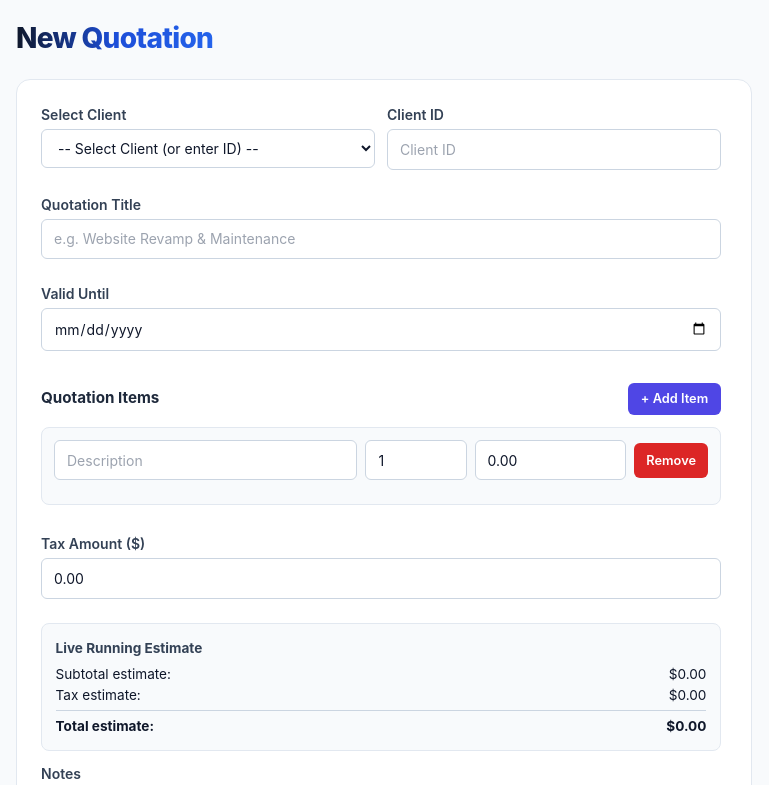
Scenario: QuotationFormPage Component (QUOT-013) › Test 3: Server error mapping works (mock a 422 response and assert field errors)
The image size is (769, 785).
Type "10" into the field with placeholder "Client ID" at {"x": 554, "y": 149}, box x1=387 y1=129 x2=721 y2=170
Type "Dup Title" into the field with placeholder "e.g. Website Revamp & Maintenance" at {"x": 381, "y": 239}, box x1=41 y1=219 x2=721 y2=259
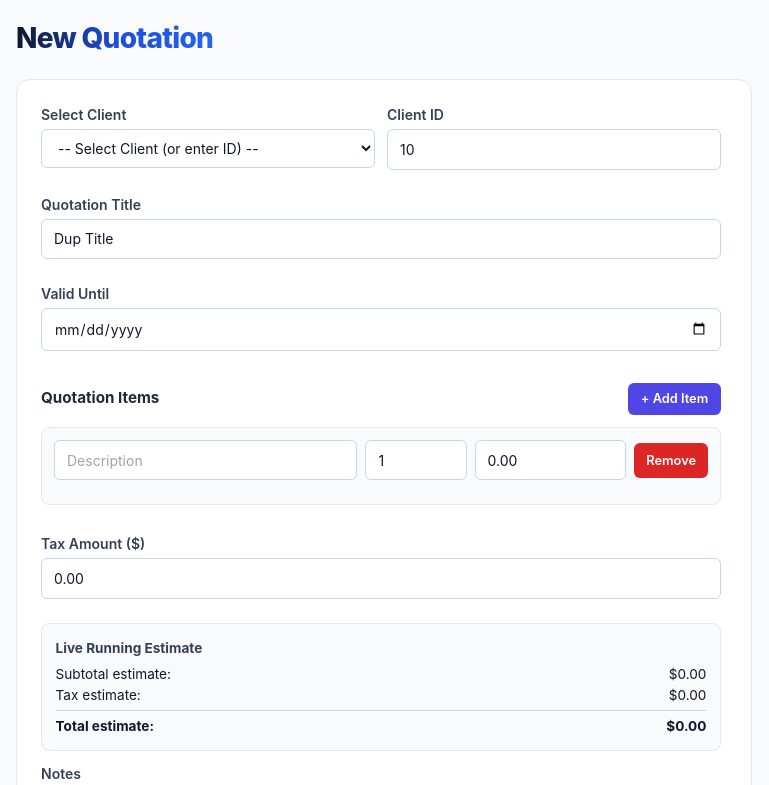
Type "2026-12-01" into the date field labelled "Valid Until" at {"x": 381, "y": 330}, box x1=41 y1=308 x2=721 y2=351
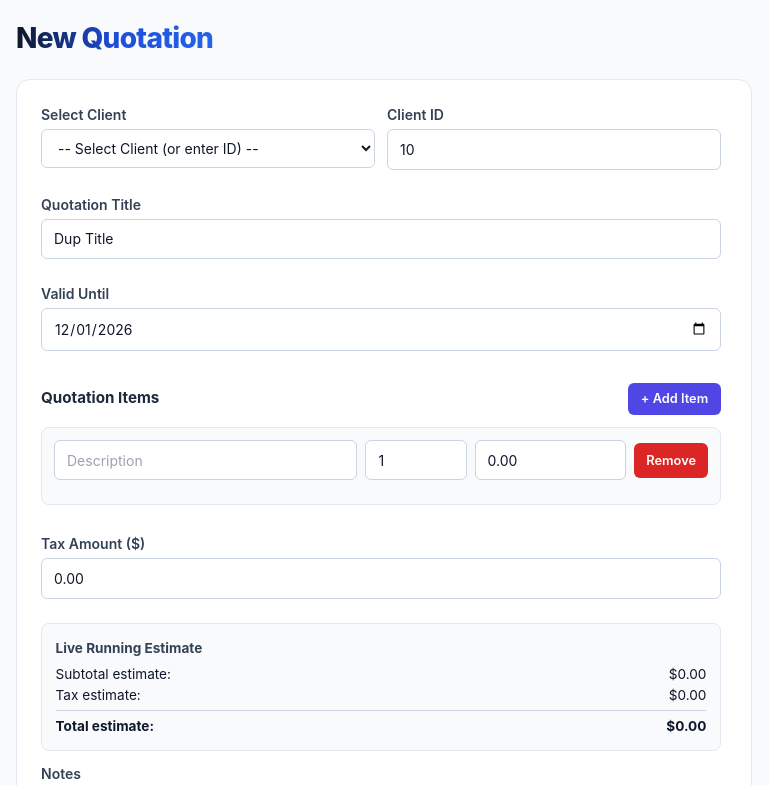
Type "Consulting" into the field with placeholder "Description" at {"x": 206, "y": 460}, box x1=54 y1=440 x2=358 y2=480
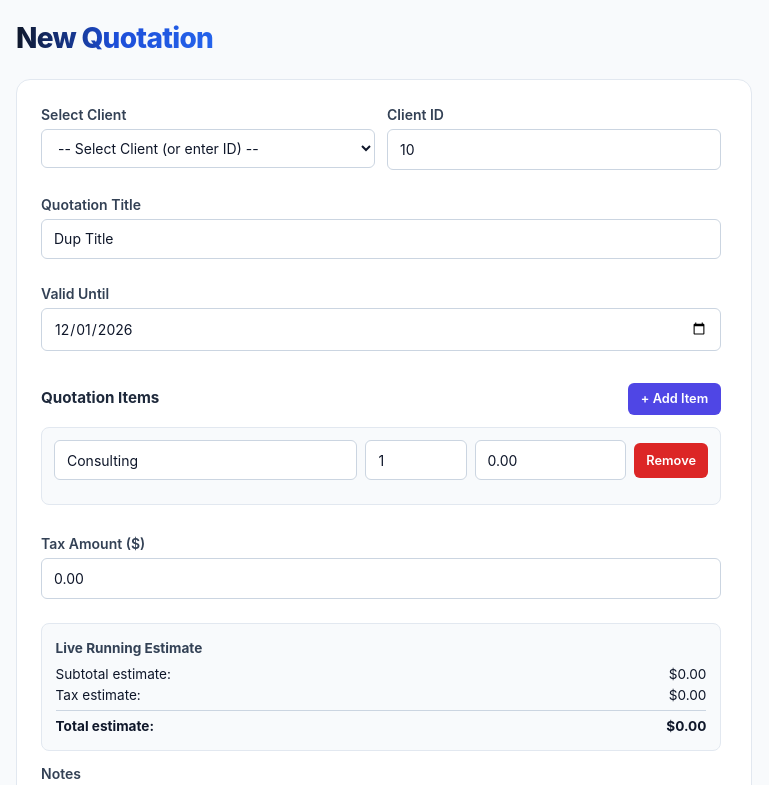
Replace the text in the 1st number field with placeholder "Qty" with "2" at {"x": 416, "y": 460}, box x1=366 y1=440 x2=467 y2=480
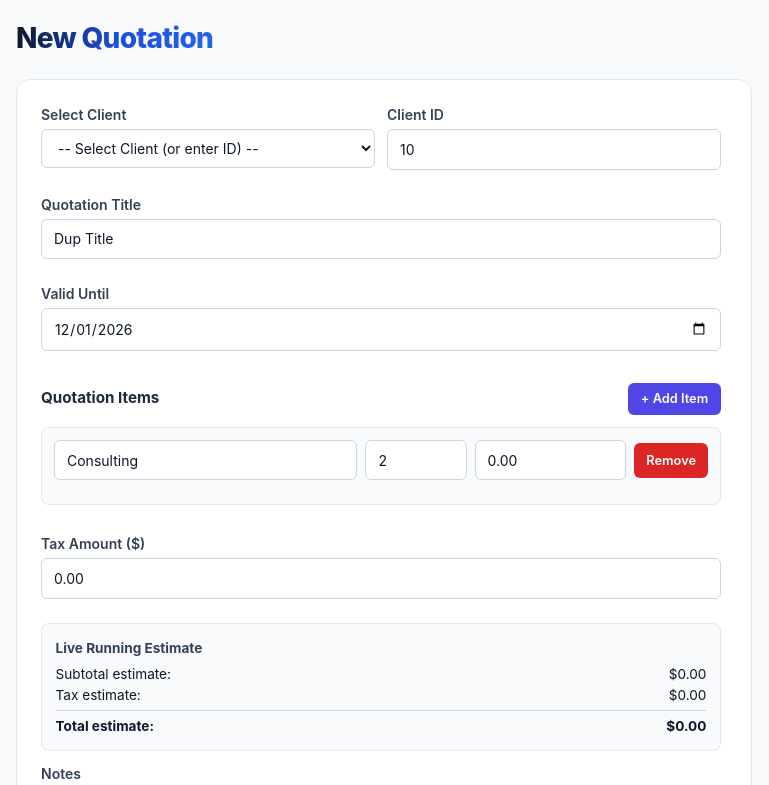
Replace the text in the 2nd number field with placeholder "Unit Price" with "500" at {"x": 550, "y": 460}, box x1=475 y1=440 x2=626 y2=480
(page scrolled)
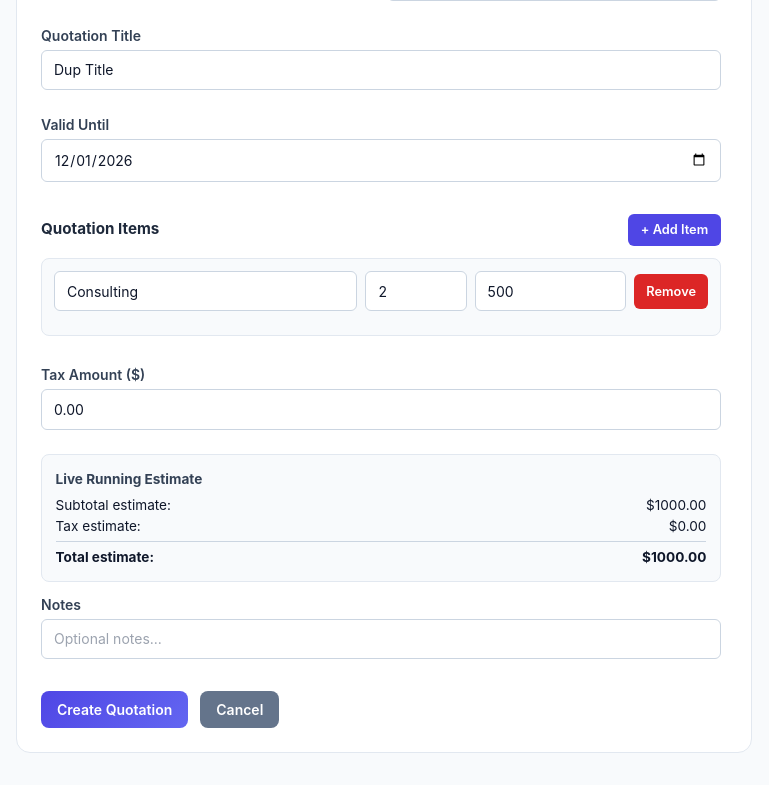
Click the button "Create Quotation" at {"x": 115, "y": 710}, box x1=41 y1=691 x2=188 y2=728
(page scrolled)
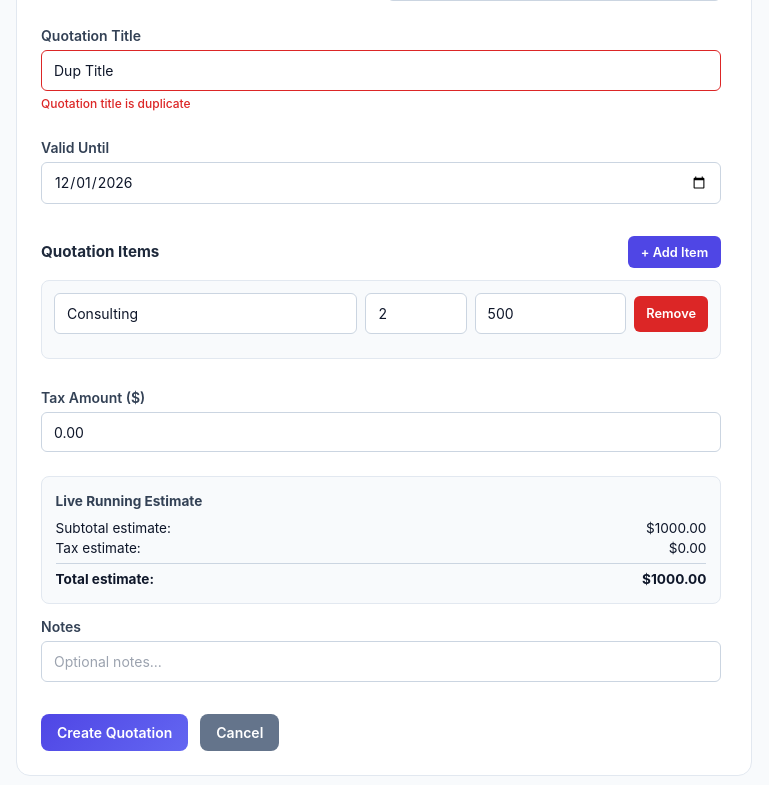
Now the text "Quotation title is duplicate" is shown, box x1=41 y1=96 x2=191 y2=111
